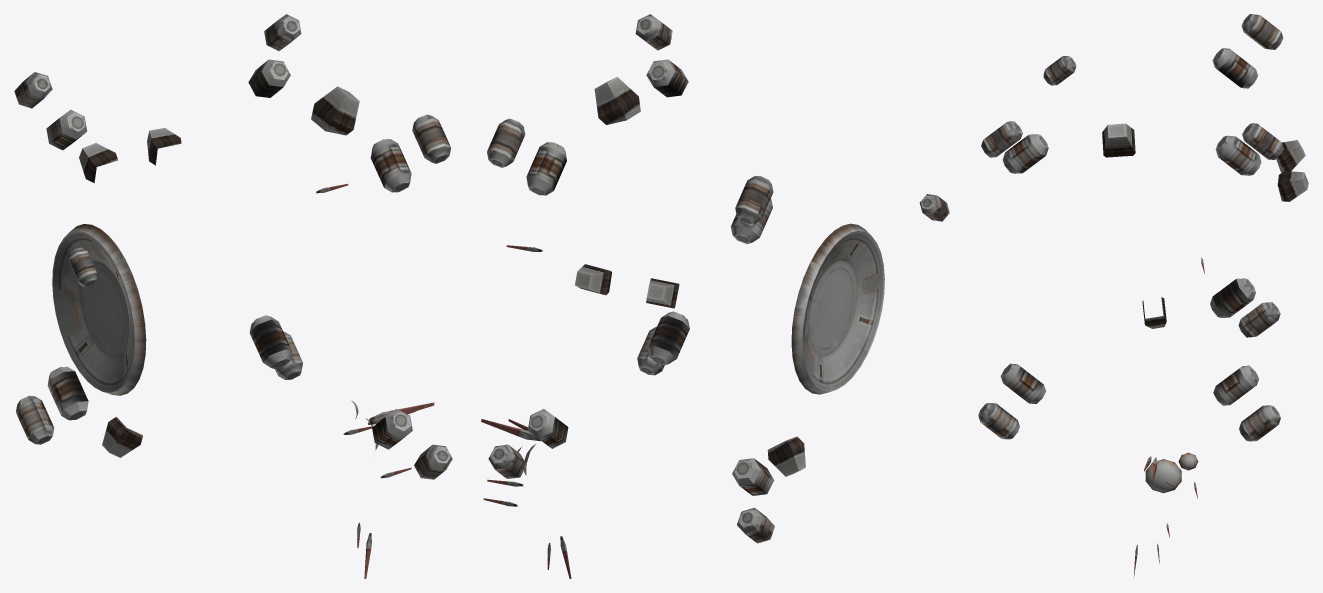
File: ama_inhibitor_ship_01.glb
The picture shows the model from 3 angles, left to right: view 1: azimuth 30°, elevation 25°; view 2: azimuth 150°, elevation 25°; view 3: azimuth 270°, elevation 25°; orthographic projection. The views are drawn at different scales.
Parts seen in each view (by area): view 1: ama_inhibitor_ship_LOD0, ama_inhibitor_ship_disc; view 2: ama_inhibitor_ship_LOD0, ama_inhibitor_ship_disc; view 3: ama_inhibitor_ship_LOD0.
Part boxes in pixels (x1,y1,x2,y2): ama_inhibitor_ship_LOD0: (14,14,452,578); ama_inhibitor_ship_disc: (52,224,146,395); ama_inhibitor_ship_LOD0: (481,14,949,578); ama_inhibitor_ship_disc: (791,223,884,394); ama_inhibitor_ship_LOD0: (978,14,1308,578).
Size of what is drawn, in the model's own units: 3.05 by 3.65 by 2.41.
1 material, 1 textured.
